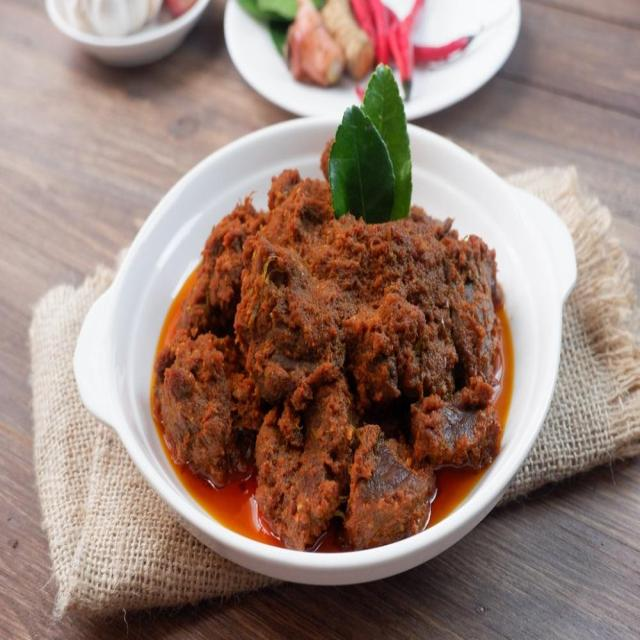Rendang: (178, 199, 518, 549)
